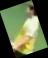yellow: (0, 1, 48, 58)
